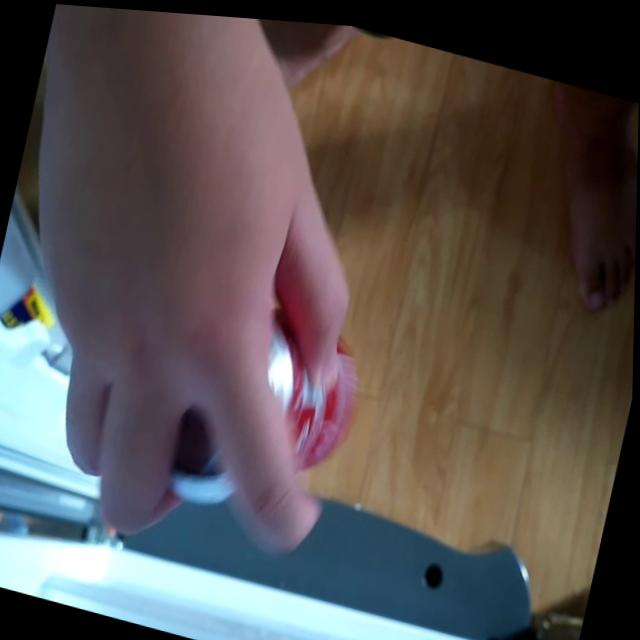coke: (164, 246, 383, 520)
